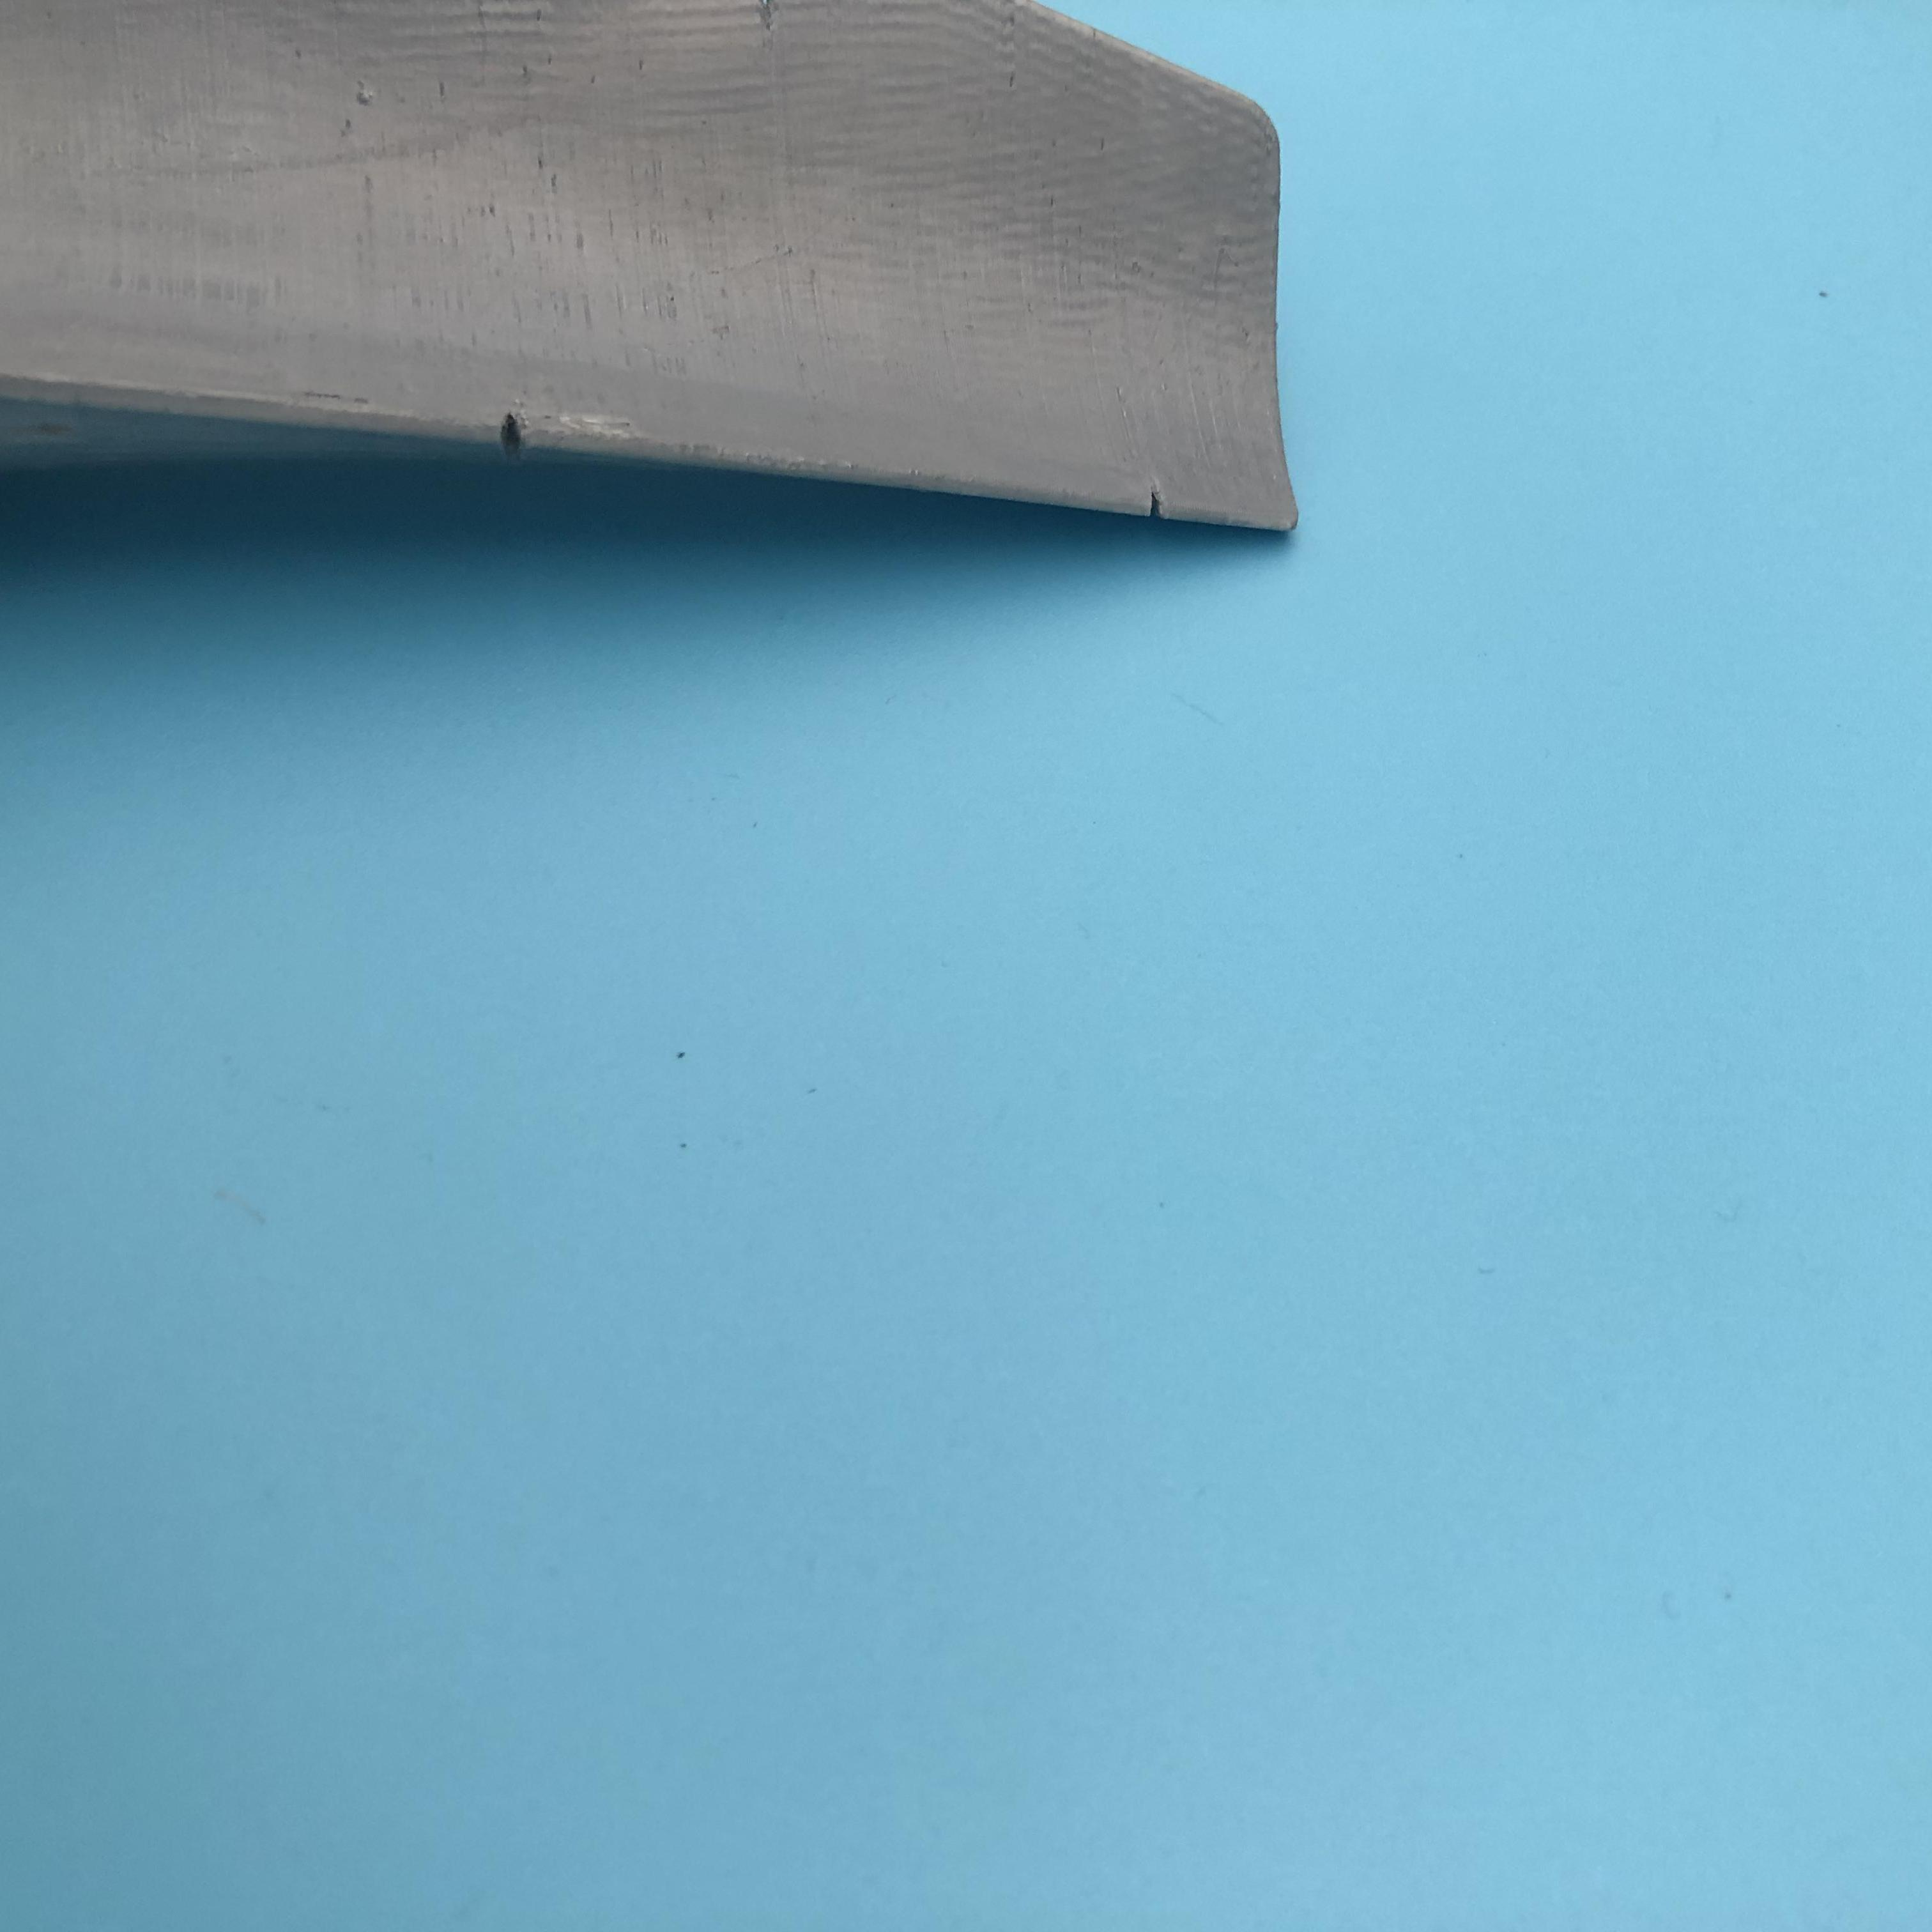groove: (481, 409, 559, 455), (1134, 478, 1178, 520)
